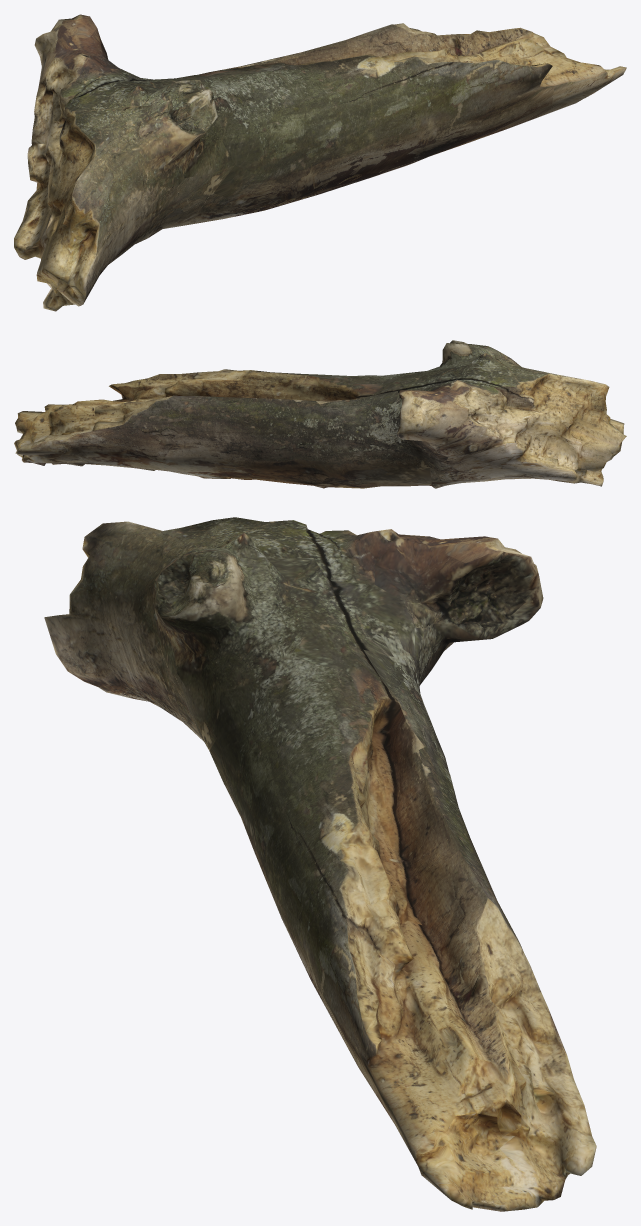
File: wood_stick_07.glb
The picture shows the model from 3 angles, top to bottom: view 1: azimuth 30°, elevation 25°; view 2: azimuth 150°, elevation 25°; view 3: azimuth 270°, elevation 25°; orthographic projection. The views are drawn at different scales.
Parts seen in each view (by area): view 1: wood_stick_07; view 2: wood_stick_07; view 3: wood_stick_07.
Boxes of the visible parts, left/top/right/bottom form: wood_stick_07: left=14, top=14, right=626, bottom=311; wood_stick_07: left=14, top=340, right=626, bottom=488; wood_stick_07: left=44, top=517, right=596, bottom=1211.
Bounding box in the file's own units: 25.9 × 7.13 × 11.91.
Materials: 1 (1 with a texture image).
